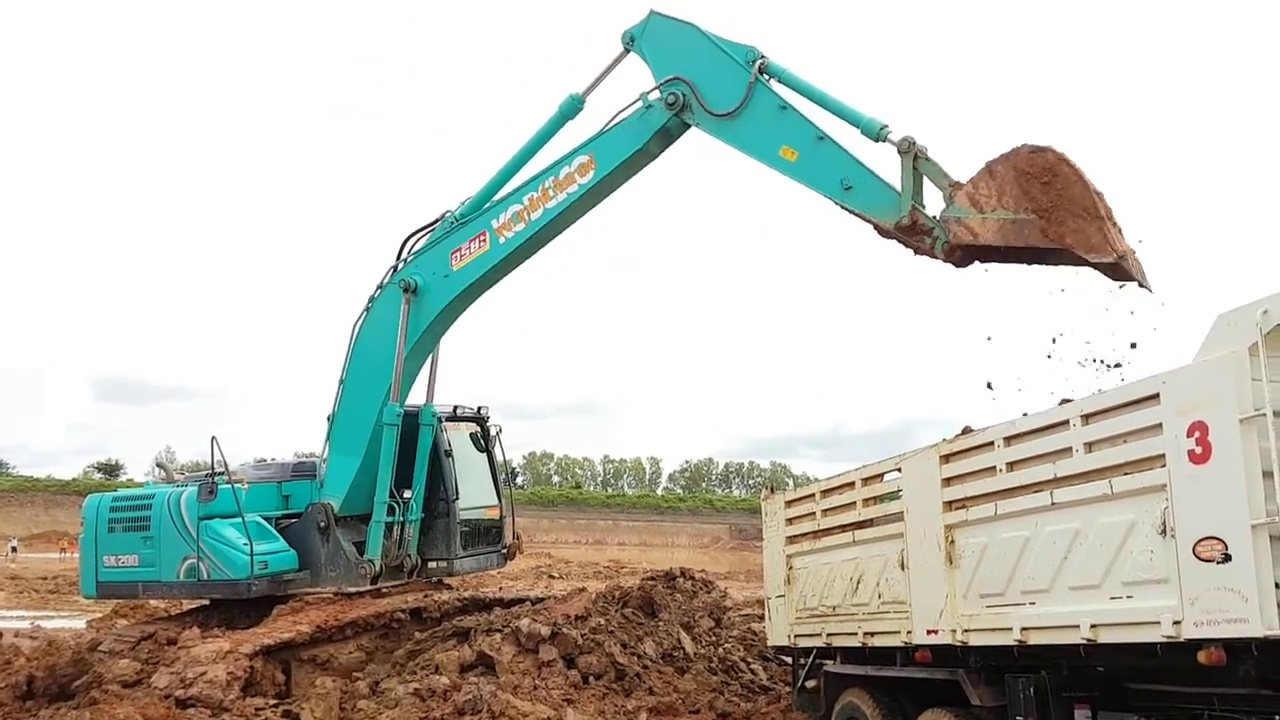excavator: (79, 12, 1161, 706)
person: (7, 534, 21, 565), (54, 533, 69, 557)
truck: (756, 281, 1280, 713)
